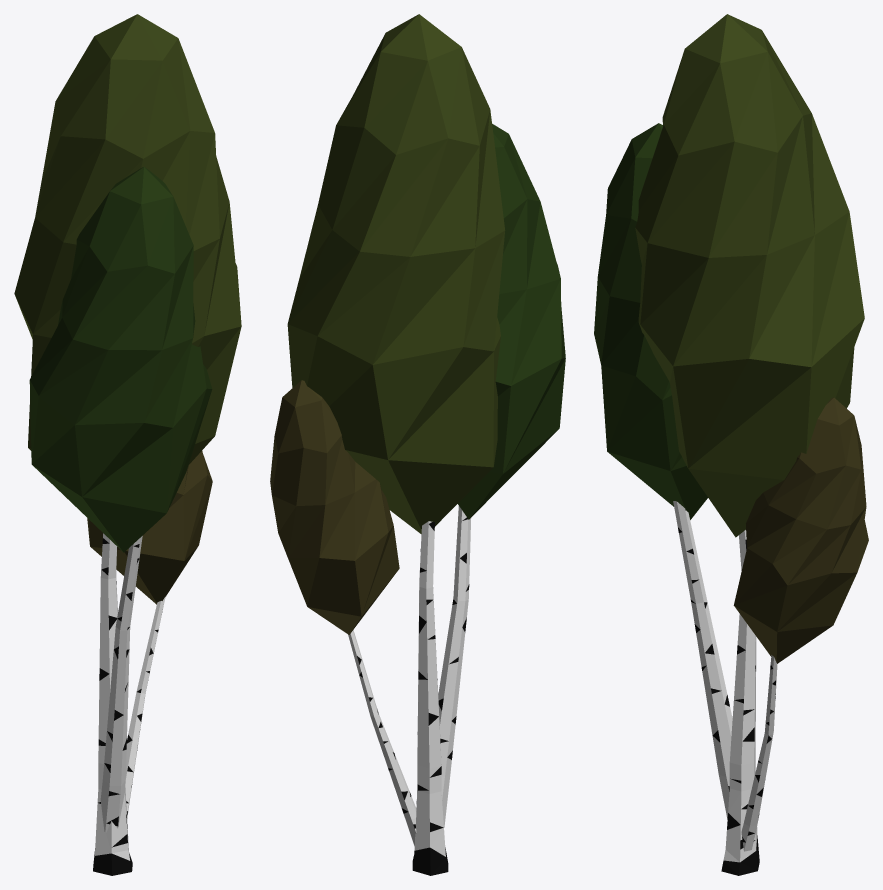
File: Birch_tr_1.FBX
3 views of the same model, side by side, from view 1: azimuth 30°, elevation 25°; view 2: azimuth 150°, elevation 25°; view 3: azimuth 270°, elevation 25° (orthographic). The views are drawn at different scales.
Visible parts, largest first — view 1: Object275; view 2: Object275; view 3: Object275.
Boxes of the visible parts, left/top/right/bottom form: Object275: left=14, top=14, right=241, bottom=875; Object275: left=270, top=14, right=565, bottom=875; Object275: left=594, top=14, right=868, bottom=875.
Size of the model in its own units: 24.18 by 85.01 by 24.59.
